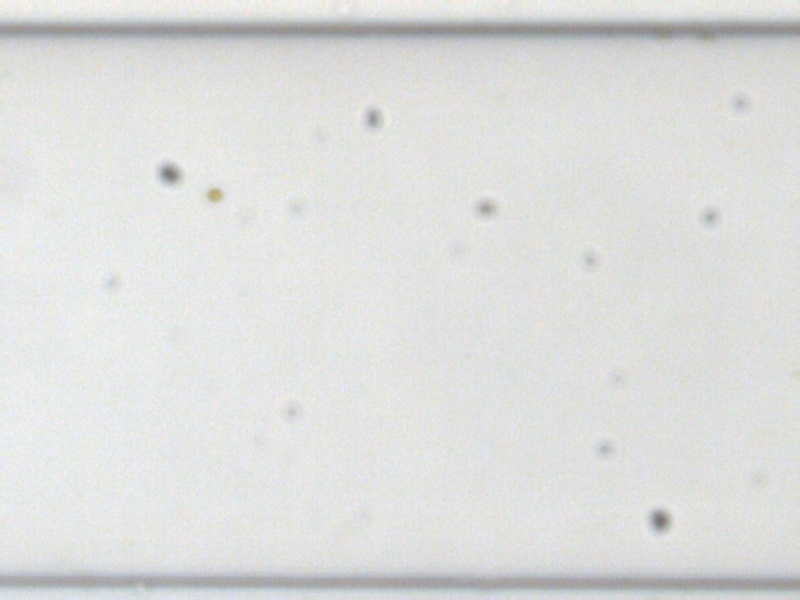Chlorella: (202, 184, 223, 201)
